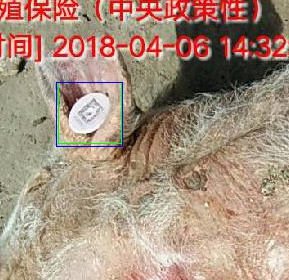text: (58, 82, 121, 143)
